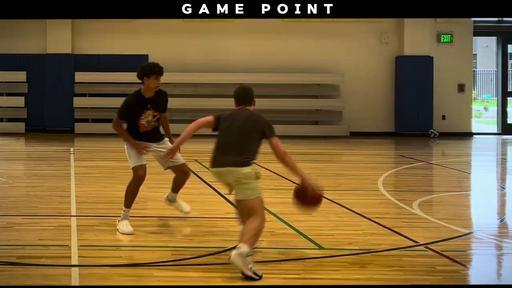ball: (292, 184, 322, 209)
human: (163, 84, 309, 280), (112, 62, 191, 236)
